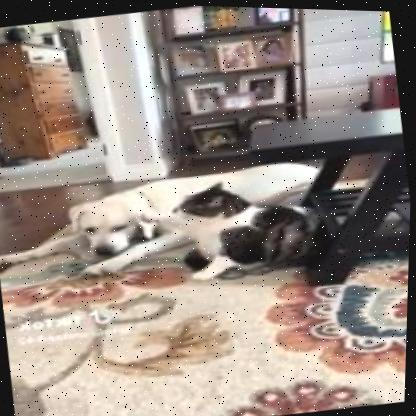dog: (0, 152, 334, 308)
